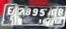plate: (2, 4, 66, 27)
